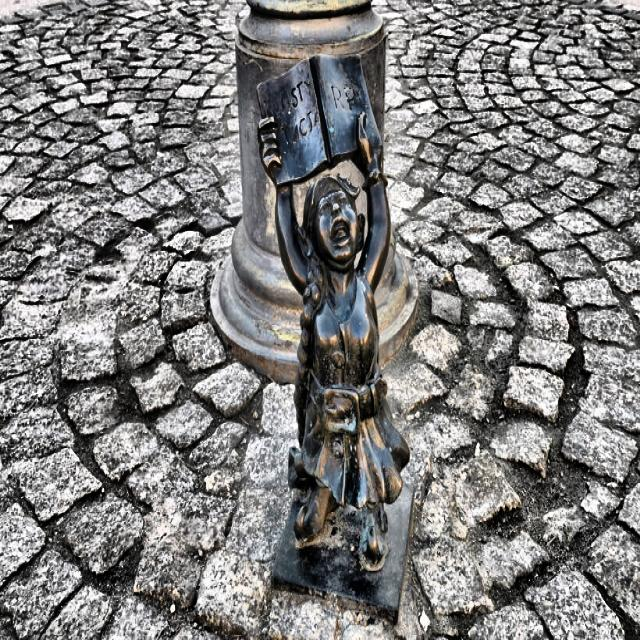Demokracja: (258, 56, 410, 570)
